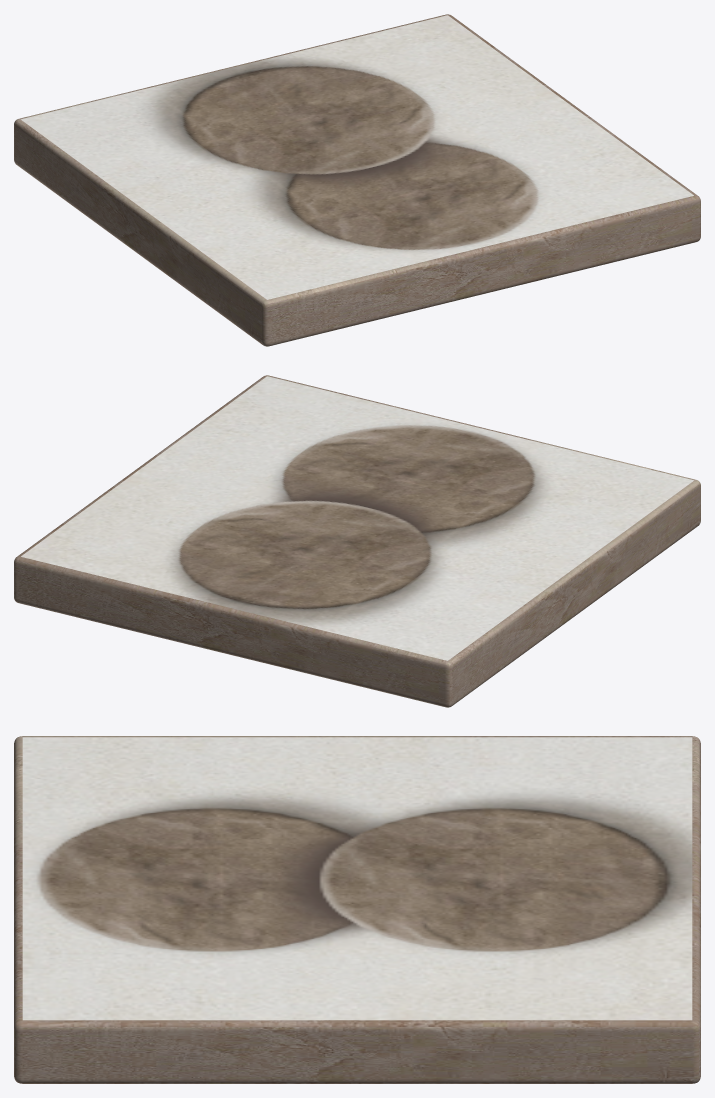
File: tile22.glb
3 renders of one model, top to bottom at view 1: azimuth 30°, elevation 25°; view 2: azimuth 150°, elevation 25°; view 3: azimuth 270°, elevation 25°, orthographic. The views are drawn at different scales.
Parts seen in each view (by area): view 1: Box001; view 2: Box001; view 3: Box001.
Part boxes in pixels (bbox=[...]): Box001: bbox=[14, 14, 700, 346]; Box001: bbox=[14, 375, 700, 707]; Box001: bbox=[14, 736, 700, 1083].
Size of the model in its own units: 0.254 by 0.0254 by 0.254.
2 materials, 2 textured.
